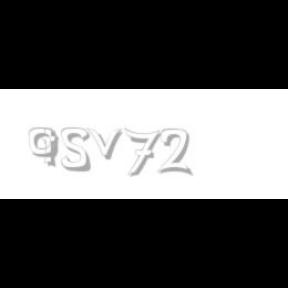2: (157, 128, 191, 176)
7: (124, 128, 162, 178)
S: (60, 128, 92, 172)
o: (28, 128, 58, 158)
t: (41, 128, 63, 168)
v: (86, 128, 126, 160)
